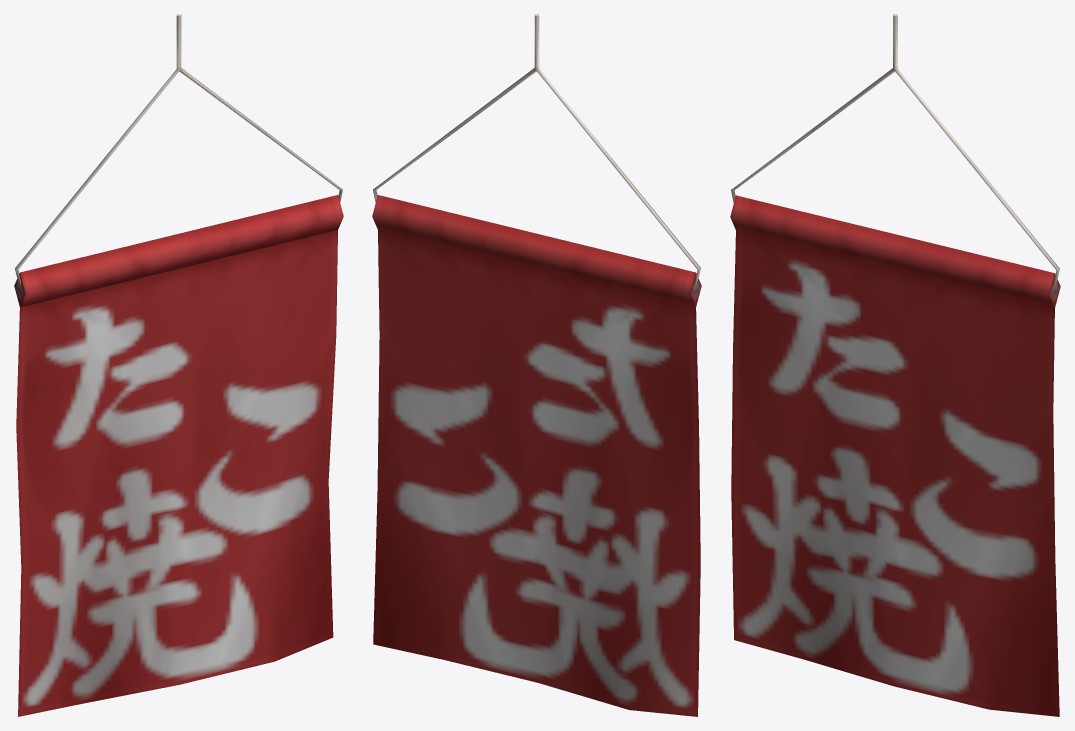
The model's file is jsf_HangingFlag_Takoyaki.fbx.
The picture shows the model from 3 angles, left to right: view 1: azimuth 30°, elevation 25°; view 2: azimuth 150°, elevation 25°; view 3: azimuth 330°, elevation 25°; orthographic projection.
Visible parts, largest first — view 1: jsf_HangingFlag_Takoyaki; view 2: jsf_HangingFlag_Takoyaki; view 3: jsf_HangingFlag_Takoyaki.
Part boxes in pixels (left/top/right/bottom): jsf_HangingFlag_Takoyaki: left=14, top=14, right=343, bottom=716; jsf_HangingFlag_Takoyaki: left=372, top=14, right=701, bottom=716; jsf_HangingFlag_Takoyaki: left=730, top=14, right=1060, bottom=716.
Size of the model in its own units: 31.53 by 61.43 by 1.92.
